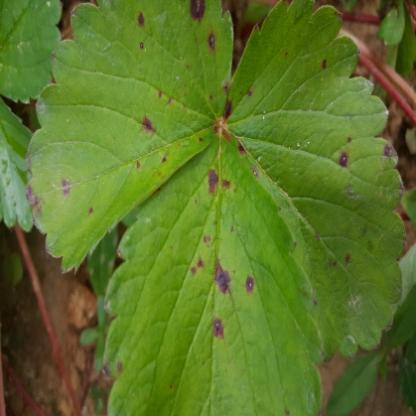Strawberry_Leaf_Spot: (221, 0, 409, 364), (101, 125, 325, 415), (25, 0, 235, 278)
